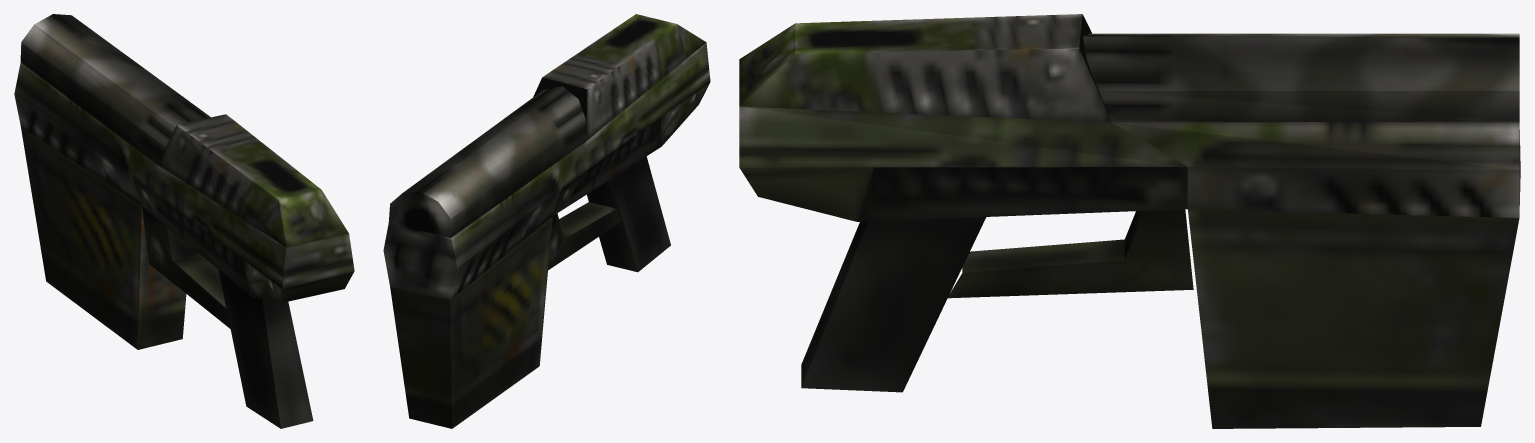
File: enforcer.gltf
3 views of the same model, side by side, from view 1: azimuth 30°, elevation 25°; view 2: azimuth 150°, elevation 25°; view 3: azimuth 270°, elevation 25° (orthographic). The views are drawn at different scales.
Parts seen in each view (by area): view 1: enforcer; view 2: enforcer; view 3: enforcer.
Part boxes in pixels (bbox=[...]): enforcer: bbox=[14, 14, 354, 428]; enforcer: bbox=[383, 14, 710, 428]; enforcer: bbox=[739, 14, 1520, 428].
Bounding box in the file's own units: 0.0658 × 0.2103 × 0.393.
1 material, 1 textured.
